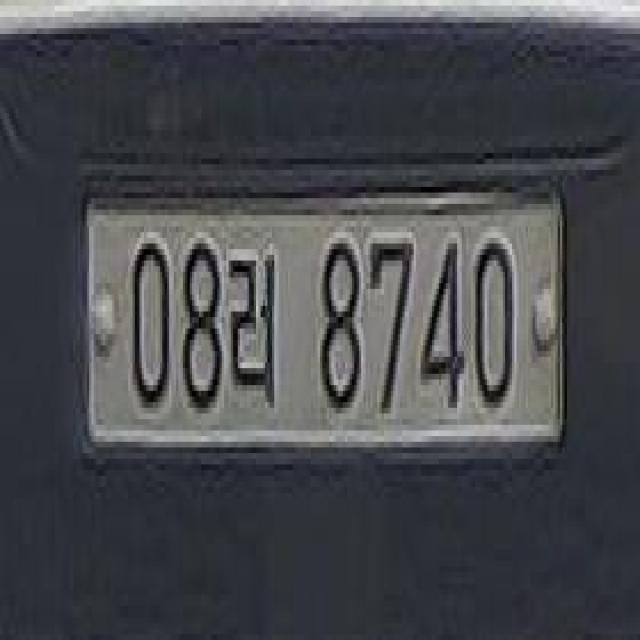illegal_plate: (88, 169, 566, 484)
